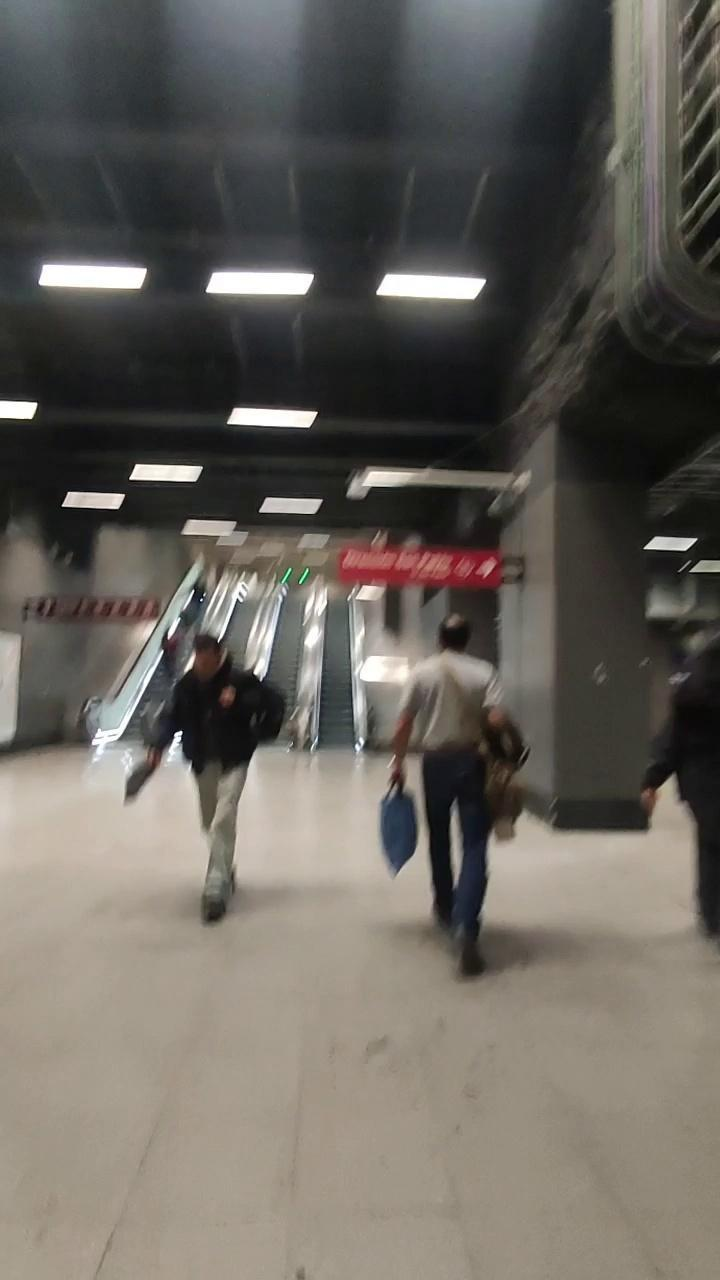right arrow: (476, 557, 498, 577)
